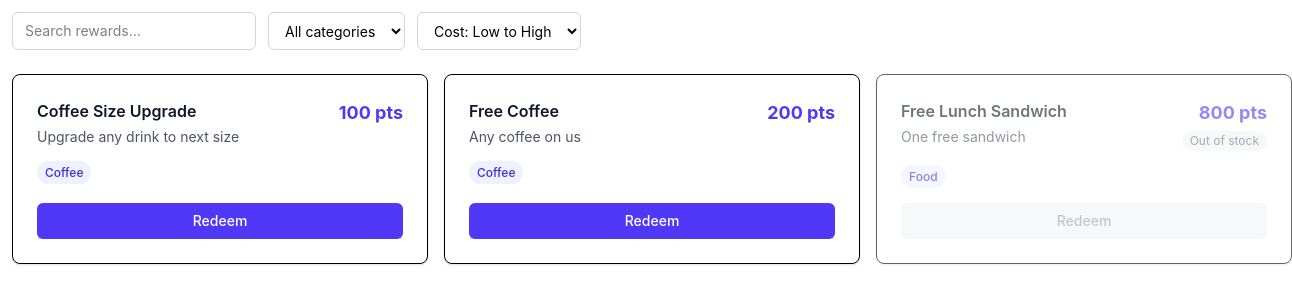
RewardList › filters cards by search term
expect the heading "Free Coffee" is shown: met, box [469, 101, 559, 121]
Step 1. Type "sandwich" into the search field → (134, 31), box [12, 12, 256, 50]
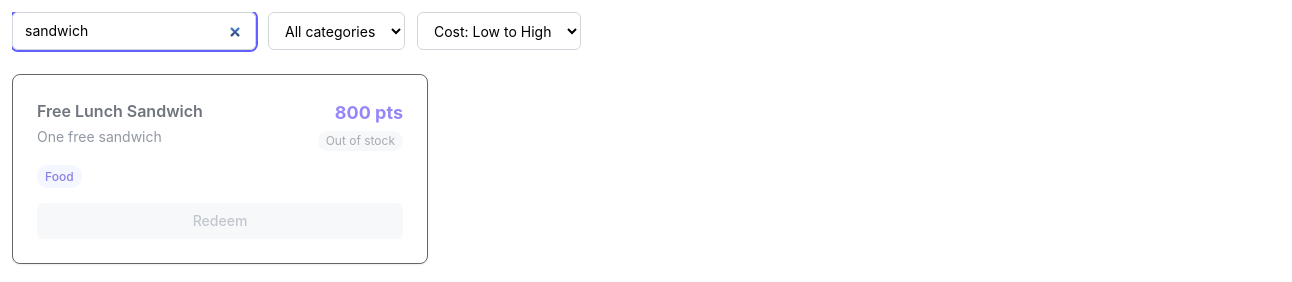
expect the heading "Free Lunch Sandwich" is shown: met, box [37, 101, 203, 121]
expect the heading "Free Coffee" is gone: met
